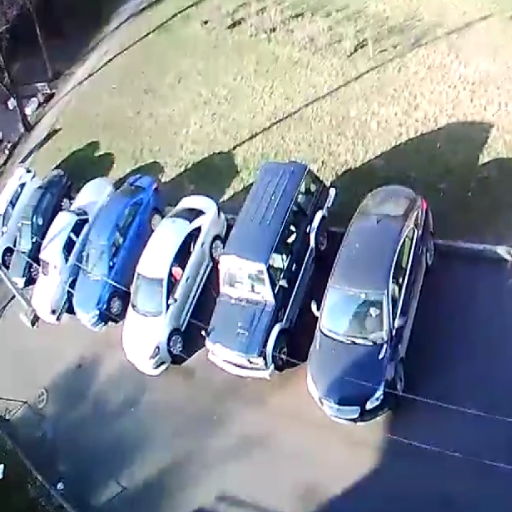Car: (306, 188, 433, 421), (206, 161, 333, 376), (120, 194, 225, 376), (73, 175, 158, 329), (31, 177, 110, 324), (9, 169, 64, 287), (2, 166, 31, 275)
